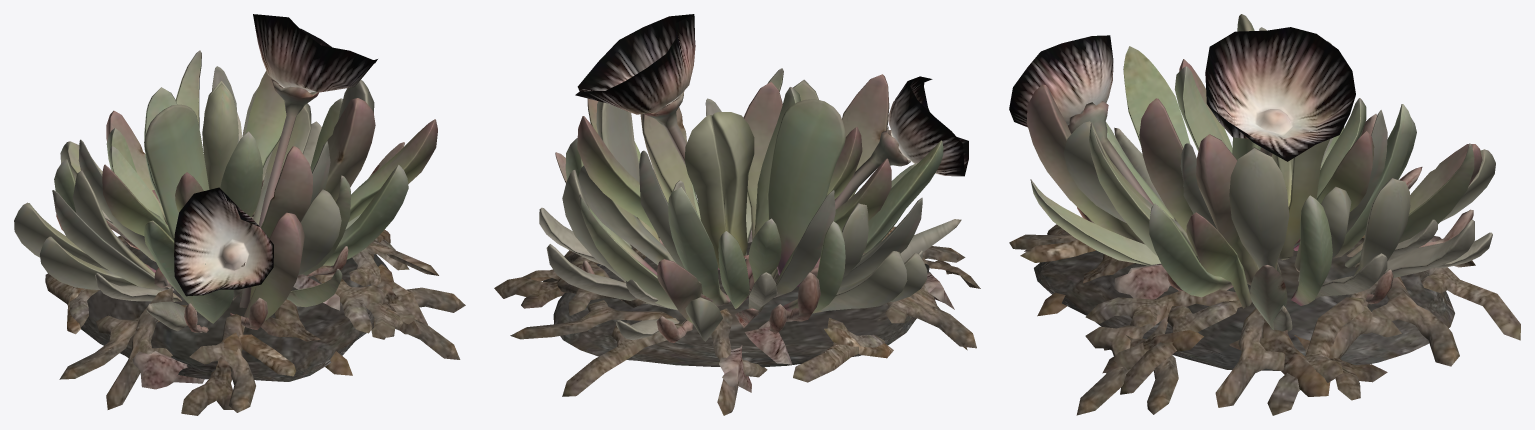
The model's file is cheiridopsis_succulent_f.gltf.
The picture shows the model from 3 angles, left to right: view 1: azimuth 30°, elevation 25°; view 2: azimuth 150°, elevation 25°; view 3: azimuth 270°, elevation 25°; orthographic projection. The views are drawn at different scales.
Parts seen in each view (by area): view 1: cheiridopsis_succulent_d_LOD0; view 2: cheiridopsis_succulent_d_LOD0; view 3: cheiridopsis_succulent_d_LOD0.
Part boxes in pixels (x1,y1,x2,y2): cheiridopsis_succulent_d_LOD0: (14, 14, 465, 415); cheiridopsis_succulent_d_LOD0: (494, 14, 980, 415); cheiridopsis_succulent_d_LOD0: (1009, 14, 1520, 415).
Size of the model in its own units: 0.353 by 0.2546 by 0.3498.
2 materials, 2 textured.
